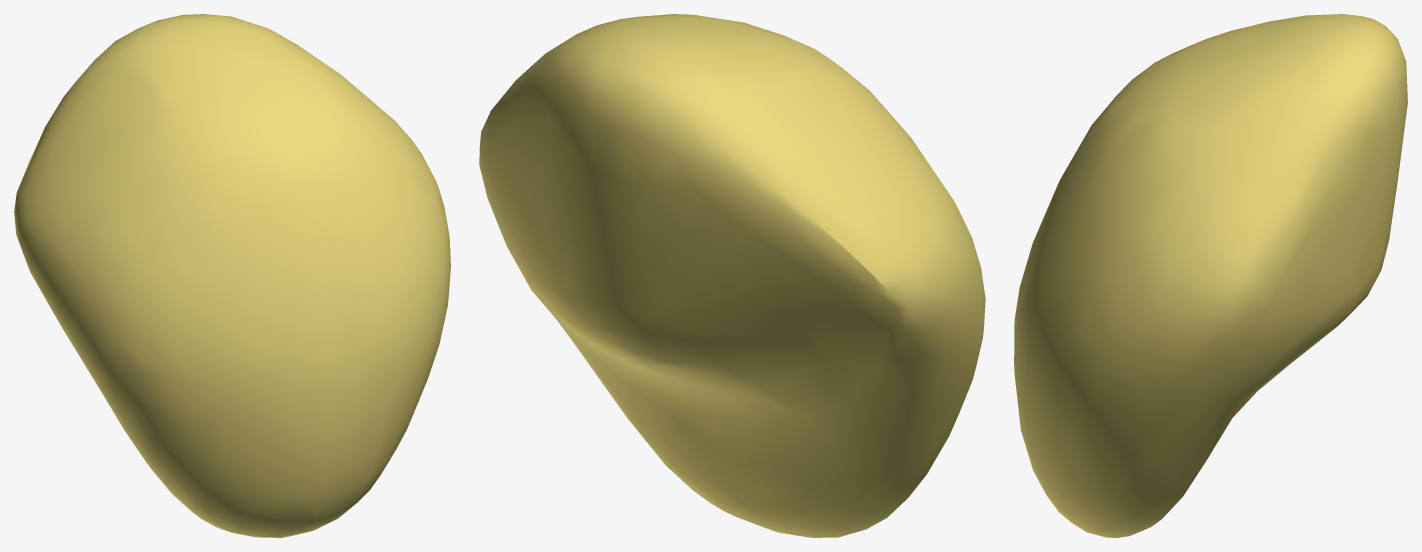
File: nodule-of-vermis.glb
3 views of the same model, side by side, from view 1: azimuth 30°, elevation 25°; view 2: azimuth 150°, elevation 25°; view 3: azimuth 270°, elevation 25° (orthographic). The views are drawn at different scales.
Parts seen in each view (by area): view 1: Nodule of vermis; view 2: Nodule of vermis; view 3: Nodule of vermis.
Boxes of the visible parts, x1,y1,x2,y2 form: Nodule of vermis: [14, 14, 450, 537]; Nodule of vermis: [479, 14, 985, 537]; Nodule of vermis: [1014, 14, 1407, 537].
Size of the model in its own units: 0.0105 by 0.0118 by 0.00854.
